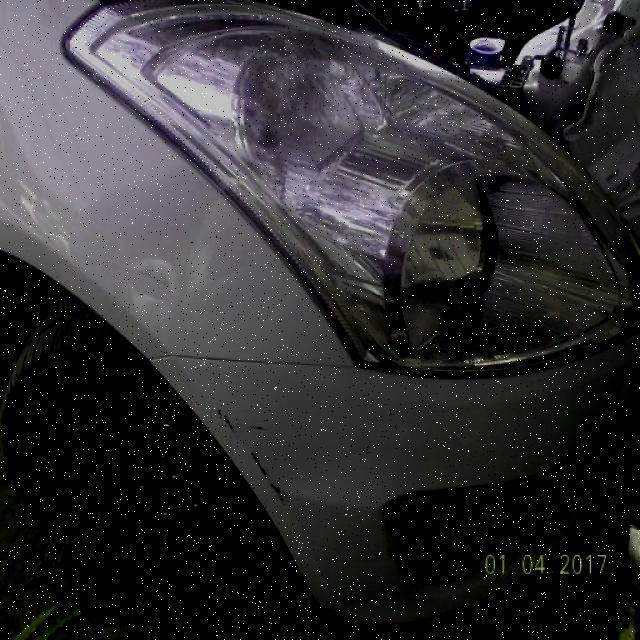car damage: (248, 446, 288, 506), (212, 398, 241, 439), (238, 419, 276, 434)
